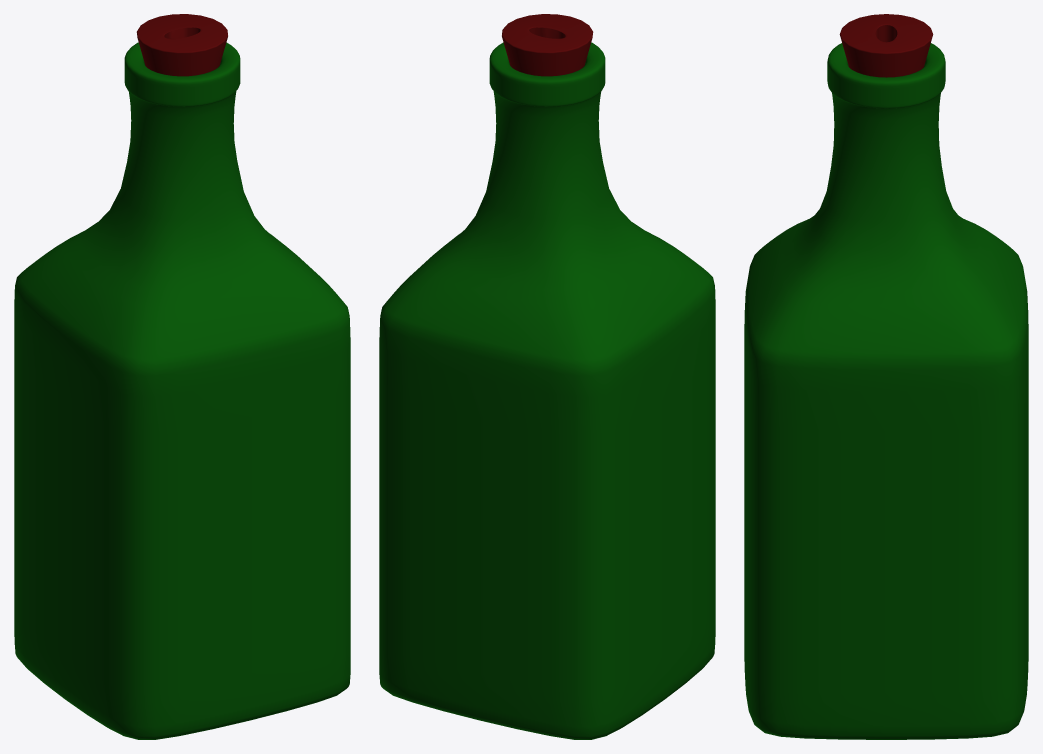
The model's file is ThermoFlask.fbx.
3 renders of one model, left to right at view 1: azimuth 30°, elevation 25°; view 2: azimuth 150°, elevation 25°; view 3: azimuth 270°, elevation 25°, orthographic.
Visible parts, largest first — view 1: ThermoFlask; view 2: ThermoFlask; view 3: ThermoFlask.
Boxes of the visible parts, x1,y1,x2,y2 form: ThermoFlask: (14,14,350,739); ThermoFlask: (379,14,715,739); ThermoFlask: (744,14,1028,739).
Size of the model in its own units: 199 by 504 by 199.
